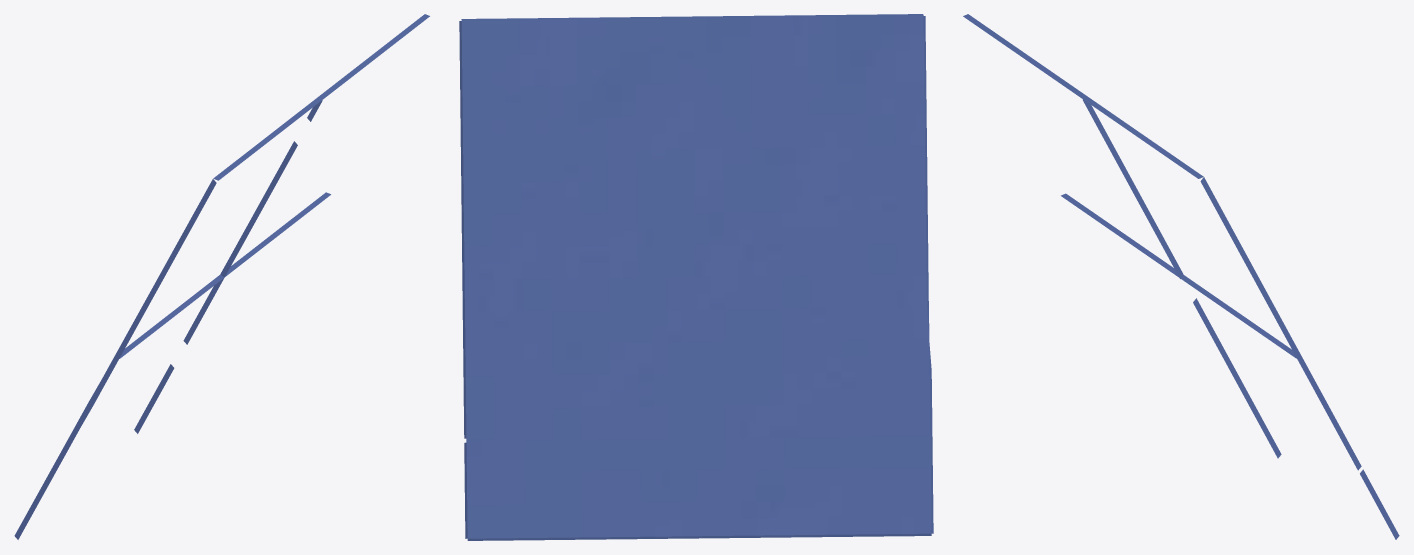
3 views of the same model, side by side, from view 1: azimuth 30°, elevation 25°; view 2: azimuth 150°, elevation 25°; view 3: azimuth 270°, elevation 25° (orthographic). The views are drawn at different scales.
Bounding box in the file's own units: 39568 × 35316 × 33817.
1 material, 1 textured.
